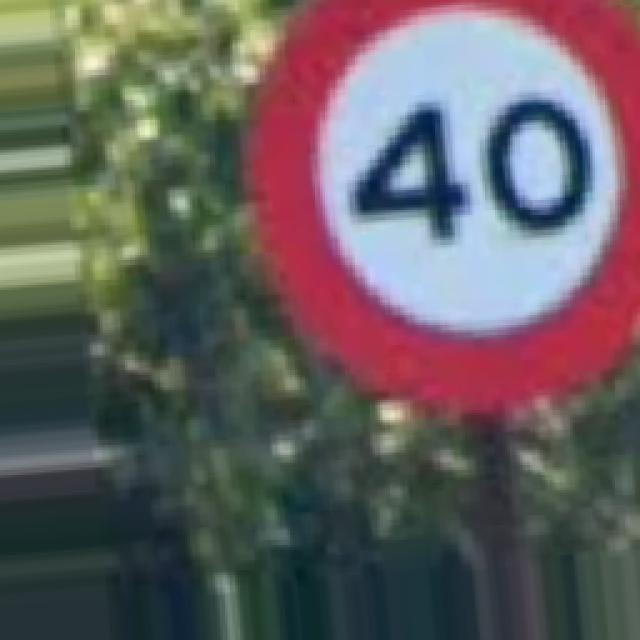Speed Limit -40-: (250, 0, 638, 410)
